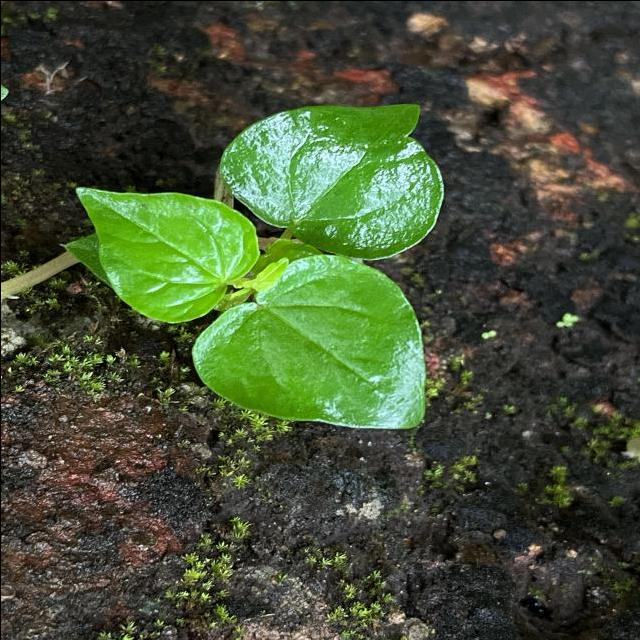Peperomia pellucida: (190, 252, 427, 430), (217, 102, 446, 261), (72, 183, 262, 324)
